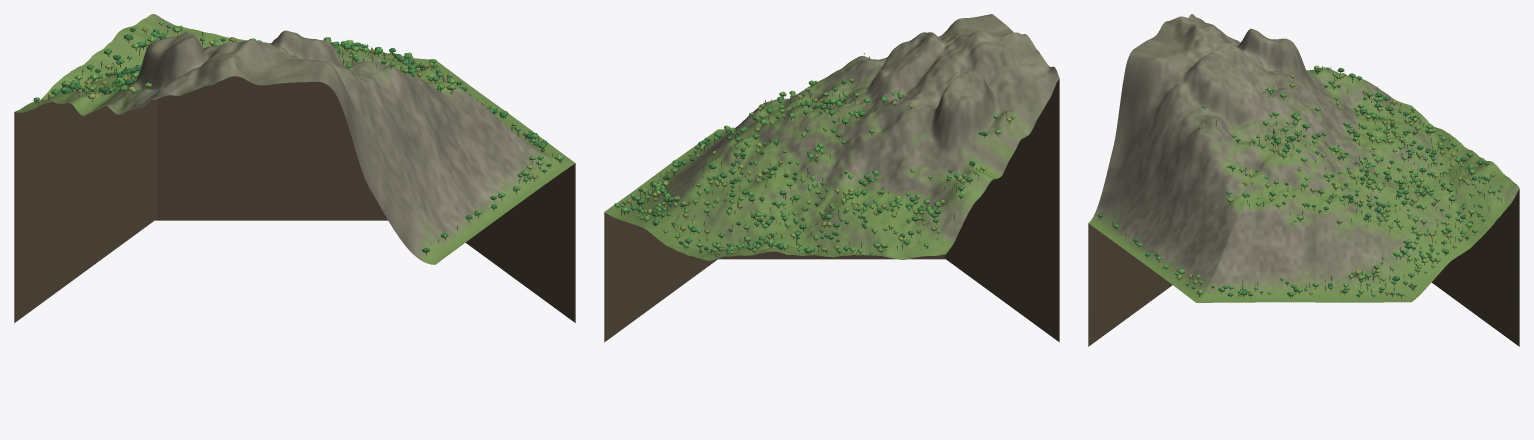
3 renders of one model, left to right at view 1: azimuth 30°, elevation 25°; view 2: azimuth 150°, elevation 25°; view 3: azimuth 270°, elevation 25°, orthographic. The views are drawn at different scales.
Visible parts, largest first — view 1: hex_side_cut, terrain, broadleaf_canopy, trunks; view 2: terrain, hex_side_cut, broadleaf_canopy, trunks, conifer_canopy; view 3: terrain, hex_side_cut, broadleaf_canopy, trunks, conifer_canopy.
Boxes of the visible parts, left/top/right/bottom form: hex_side_cut: left=14, top=76, right=575, bottom=322; terrain: left=15, top=14, right=575, bottom=264; broadleaf_canopy: left=33, top=21, right=563, bottom=252; trunks: left=35, top=25, right=561, bottom=254; terrain: left=604, top=14, right=1059, bottom=261; hex_side_cut: left=604, top=79, right=1059, bottom=342; broadleaf_canopy: left=614, top=78, right=1015, bottom=254; trunks: left=617, top=57, right=1012, bottom=257; conifer_canopy: left=621, top=53, right=1006, bottom=255; terrain: left=1088, top=14, right=1519, bottom=302; hex_side_cut: left=1088, top=189, right=1519, bottom=346; broadleaf_canopy: left=1097, top=65, right=1503, bottom=296; trunks: left=1100, top=67, right=1502, bottom=298; conifer_canopy: left=1112, top=66, right=1501, bottom=296.
Size of the model in its own units: 4330 by 3558 by 5000.
Materials: 6 (1 with a texture image).
